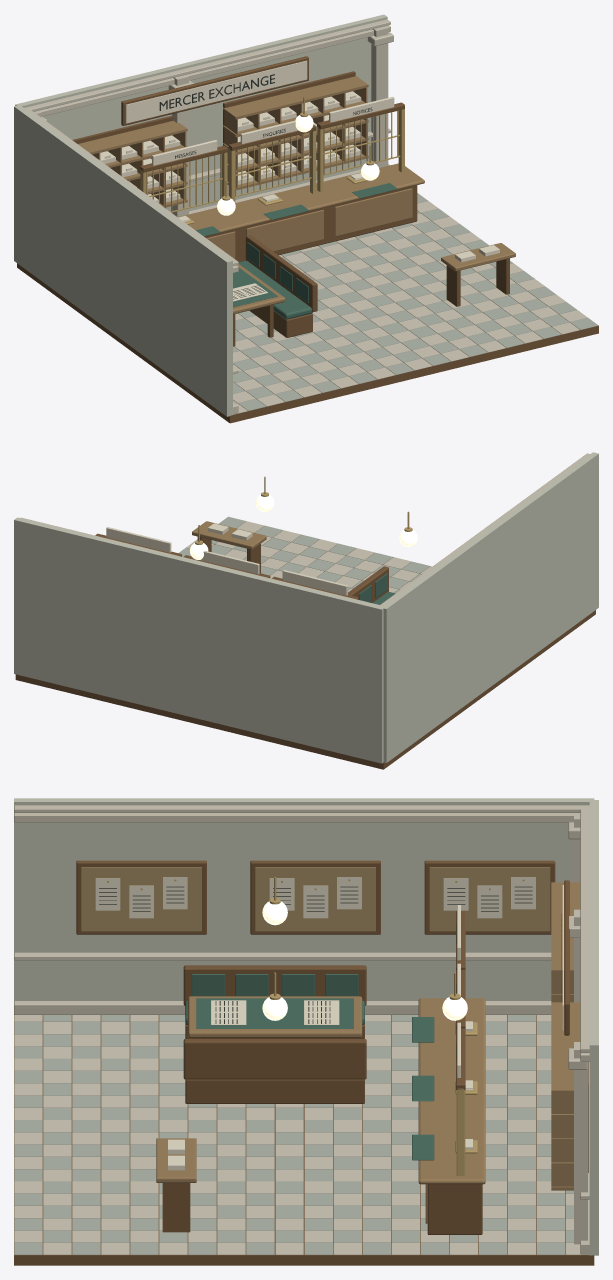
Rendered from interior-exchange.glb.
The picture shows the model from 3 angles, top to bottom: view 1: azimuth 30°, elevation 25°; view 2: azimuth 150°, elevation 25°; view 3: azimuth 270°, elevation 25°; orthographic projection. The views are drawn at different scales.
Parts seen in each view (by area): view 1: side plaster, floor tile, floor tile.001, hall foundation, rear plaster, counter polished ledge, archive shelf, rear cornice, filed papers, window upright, writing pad, archive back (+4 smaller); view 2: rear plaster, side plaster, hall foundation, floor tile.001, floor tile, waiting envelope, counter polished ledge, side cornice, opal globe, rear cornice, writing pad; view 3: side plaster, floor tile.001, floor tile, hall foundation, side cornice, notice cork, counter polished ledge, writing pad, pinned notice, rear cornice, noticeboard frame, archive shelf (+6 smaller).
Part boxes in pixels (x1=…): side plaster: x1=14, y1=106, x2=232, y2=416; floor tile: x1=233, y1=201, x2=587, y2=414; floor tile.001: x1=233, y1=193, x2=598, y2=410; hall foundation: x1=17, y1=102, x2=598, y2=423; rear plaster: x1=15, y1=14, x2=387, y2=211; counter polished ledge: x1=178, y1=163, x2=515, y2=314; archive shelf: x1=78, y1=76, x2=368, y2=207; rear cornice: x1=24, y1=19, x2=393, y2=217; filed papers: x1=100, y1=60, x2=361, y2=203; window upright: x1=140, y1=97, x2=404, y2=224; writing pad: x1=196, y1=183, x2=397, y2=319; archive back: x1=72, y1=56, x2=355, y2=194; rear plaster: x1=14, y1=517, x2=384, y2=763; side plaster: x1=382, y1=452, x2=598, y2=762; hall foundation: x1=15, y1=525, x2=595, y2=769; floor tile.001: x1=178, y1=516, x2=429, y2=593; floor tile: x1=186, y1=521, x2=432, y2=592; waiting envelope: x1=106, y1=523, x2=347, y2=595; counter polished ledge: x1=192, y1=521, x2=266, y2=549; side cornice: x1=380, y1=453, x2=589, y2=605; opal globe: x1=190, y1=494, x2=417, y2=559; rear cornice: x1=20, y1=517, x2=382, y2=606; writing pad: x1=359, y1=573, x2=395, y2=604; side plaster: x1=14, y1=798, x2=594, y2=1000; floor tile.001: x1=14, y1=1015, x2=573, y2=1254; floor tile: x1=14, y1=1015, x2=589, y2=1254; hall foundation: x1=14, y1=911, x2=594, y2=1265; side cornice: x1=14, y1=805, x2=586, y2=1014; notice cork: x1=81, y1=867, x2=550, y2=931; counter polished ledge: x1=156, y1=996, x2=485, y2=1223; writing pad: x1=185, y1=974, x2=434, y2=1160; pinned notice: x1=95, y1=877, x2=535, y2=918; rear cornice: x1=568, y1=805, x2=590, y2=1254; noticeboard frame: x1=76, y1=860, x2=555, y2=934; archive shelf: x1=551, y1=882, x2=580, y2=1190.
Bounding box in the file's own units: 10.08 × 4.19 × 10.08.
